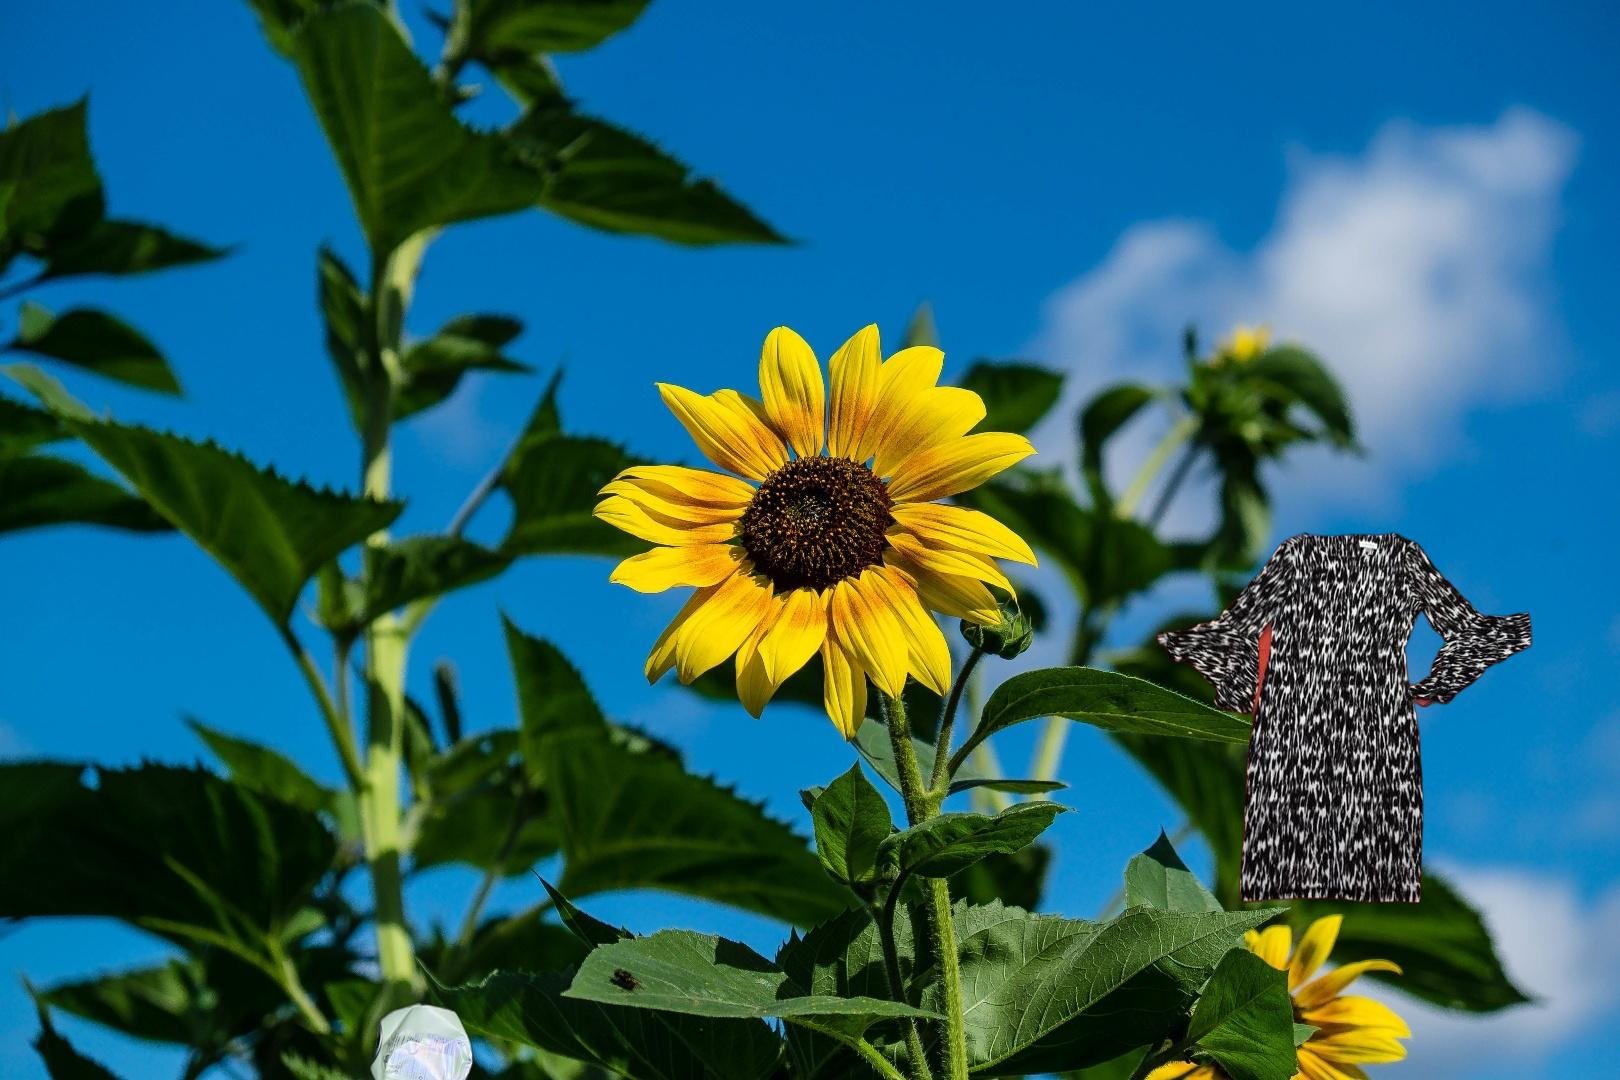clothes: (1154, 528, 1536, 906)
metal-cans: (365, 996, 479, 1080)
